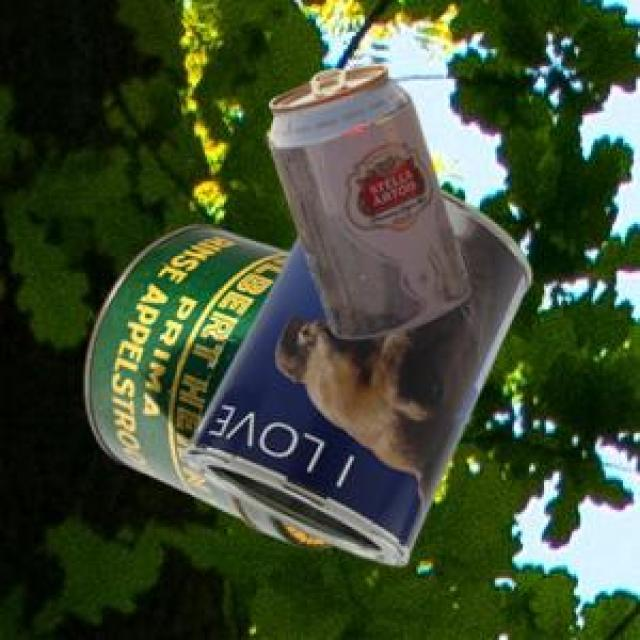Can: (178, 189, 528, 562), (82, 223, 330, 545), (266, 61, 468, 336)
